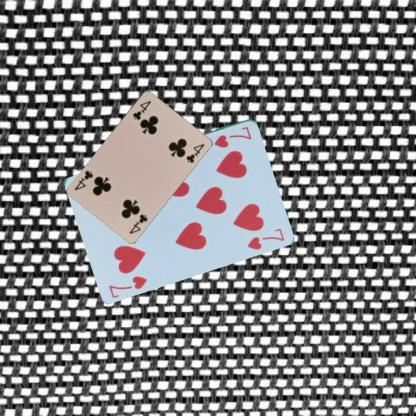4c: (130, 98, 153, 121), (127, 211, 149, 235)
7h: (212, 123, 253, 149), (107, 272, 148, 298)
